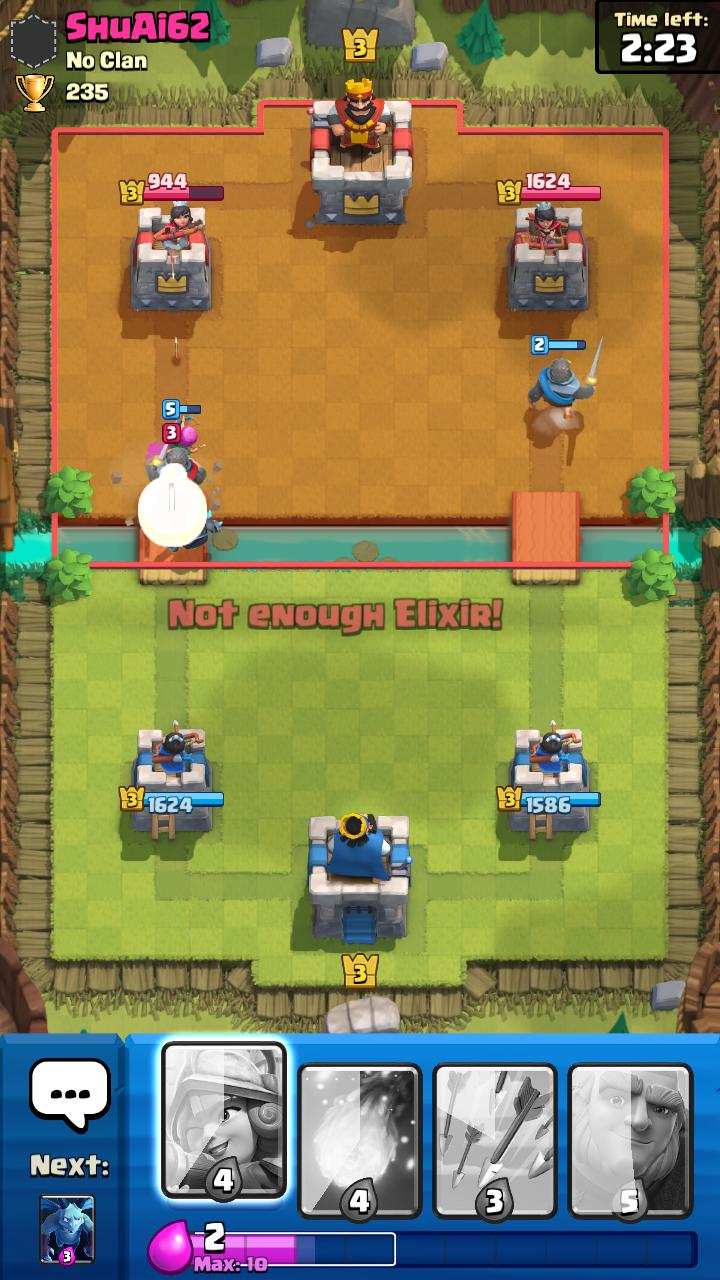ally: (528, 335, 603, 419), (162, 399, 206, 459), (168, 510, 223, 552)
enemy: (147, 423, 207, 486)
